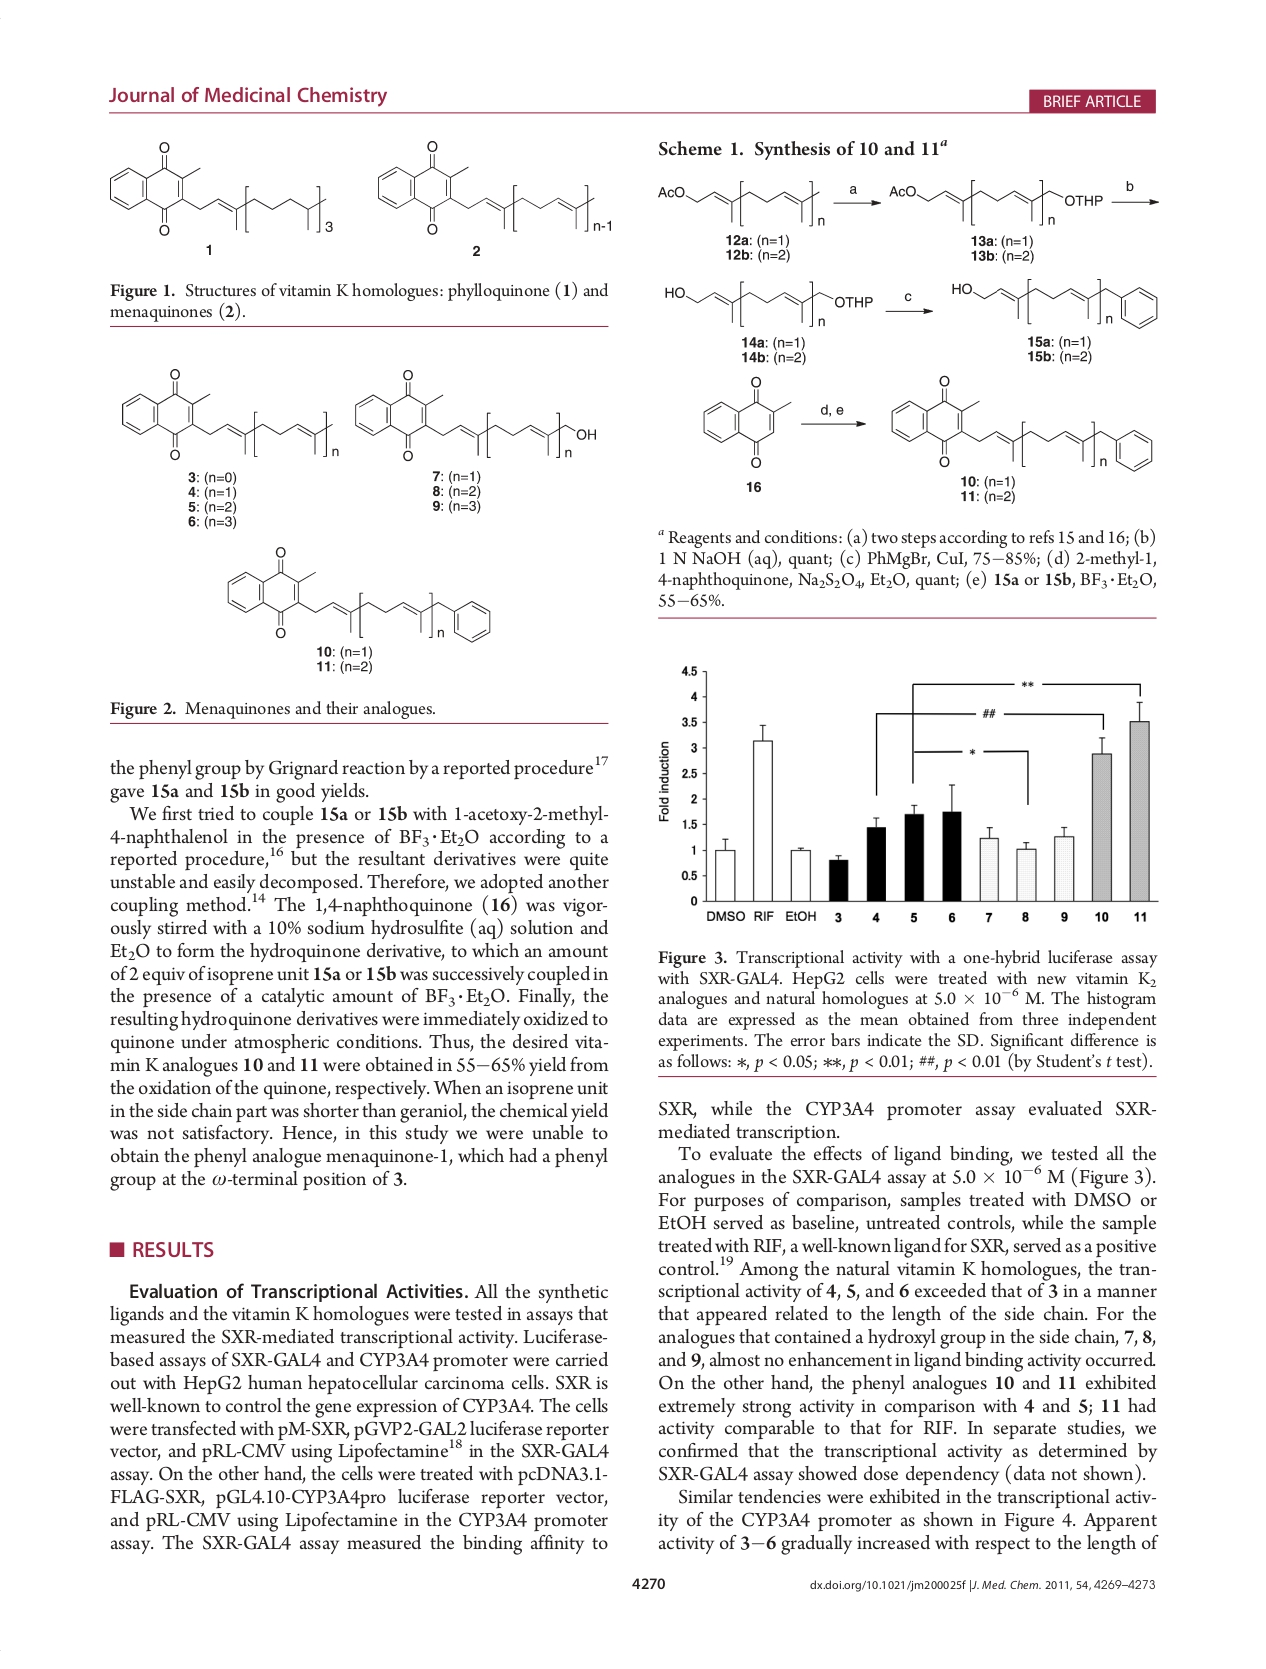exist_molecular: (887, 371, 1156, 476), (223, 543, 496, 644), (352, 366, 602, 465), (102, 136, 336, 241), (374, 136, 616, 237), (116, 364, 344, 463), (948, 270, 1161, 330), (887, 172, 1104, 229), (662, 277, 875, 330), (654, 172, 830, 230), (699, 370, 797, 469)
